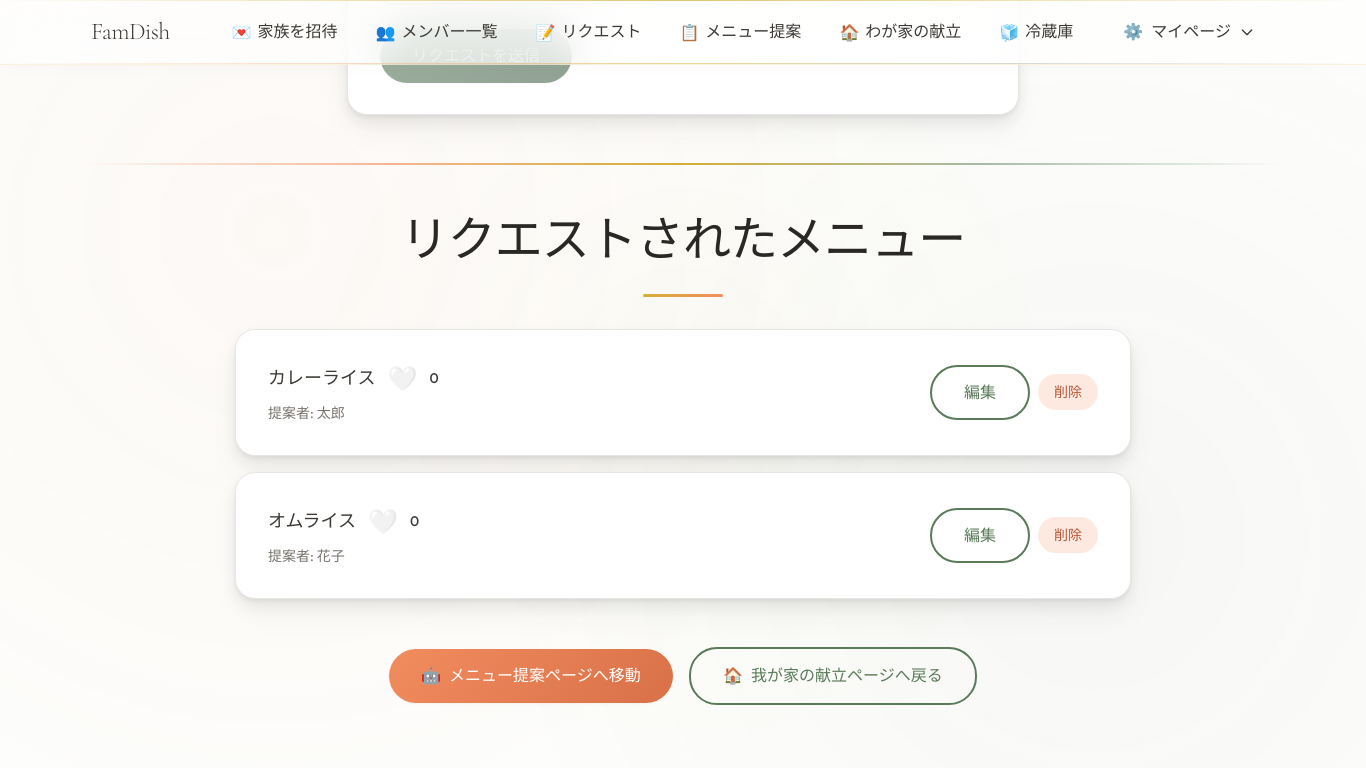
it: RequestPage › 編集モーダルのキャンセルで閉じる
(page scrolled)
expect the text "オムライス" is shown: met, box x1=268 y1=507 x2=356 y2=535
Step 1. Click the button "編集" in the row of "カレーライス" → (980, 393), box x1=930 y1=365 x2=1030 y2=420
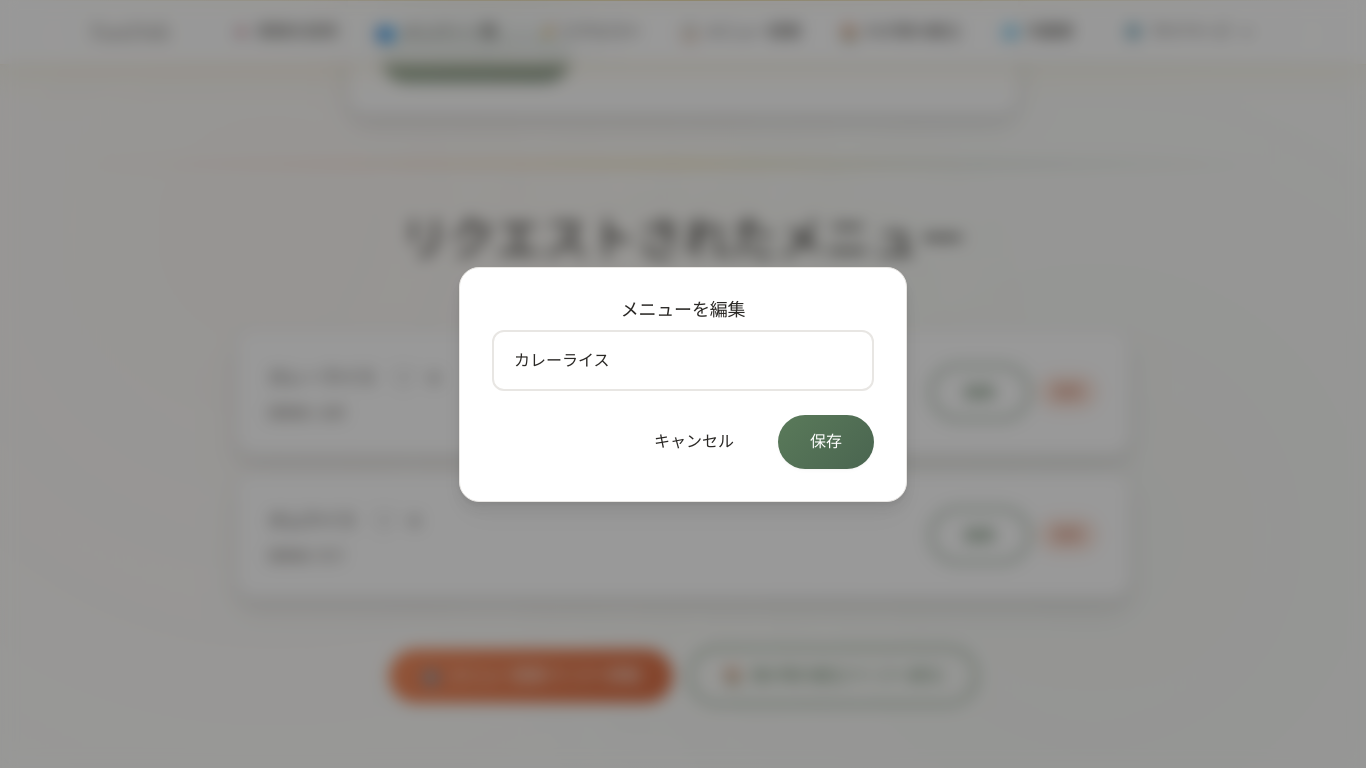
expect the heading "メニューを編集" is shown: met, box x1=621 y1=299 x2=745 y2=321
# キャンセルボタン（モーダル内の）
Step 2. Click the button "キャンセル" → (694, 442), box x1=622 y1=415 x2=766 y2=468
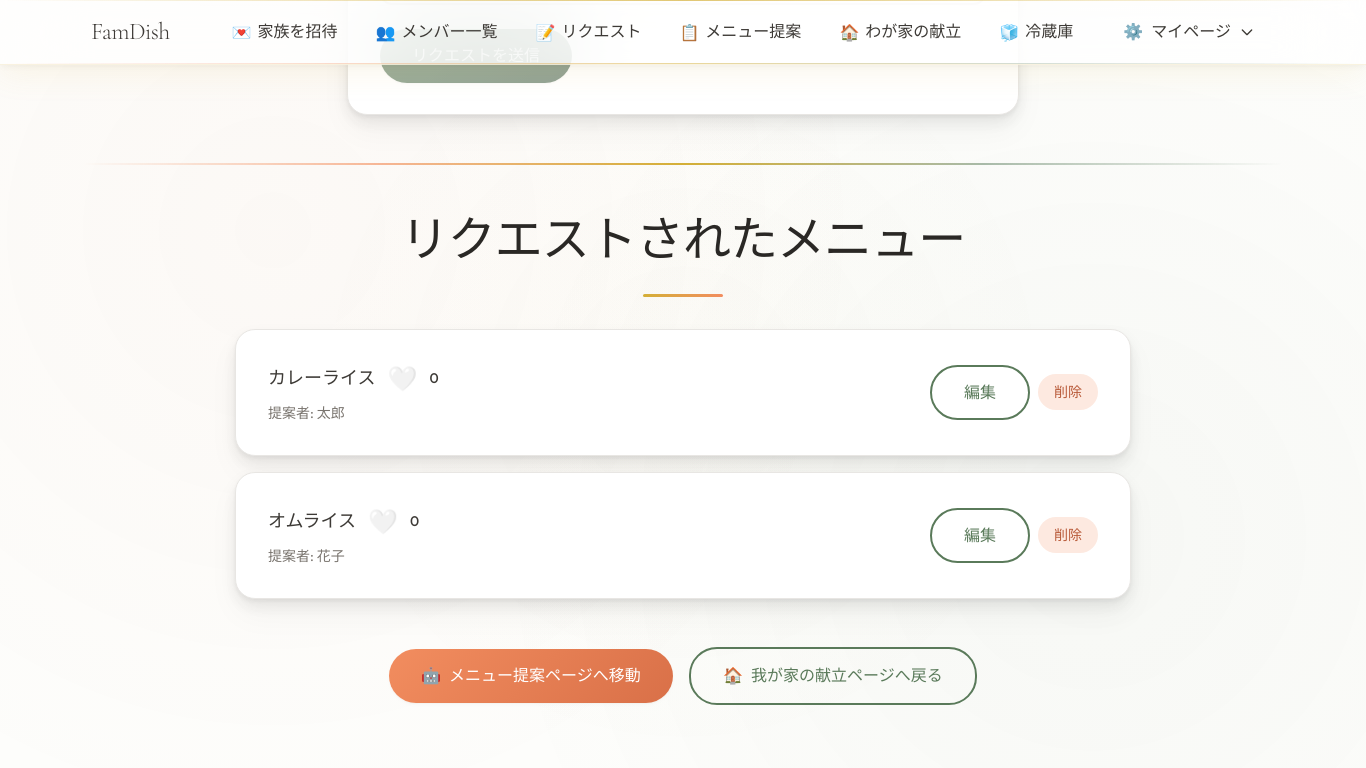
expect the heading "メニューを編集" is gone: met
